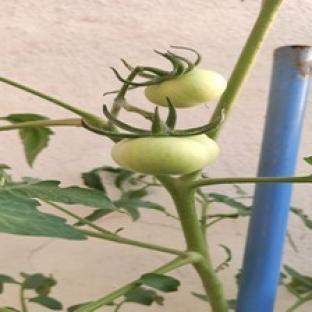Tomato: (112, 136, 218, 175), (145, 69, 227, 108)
